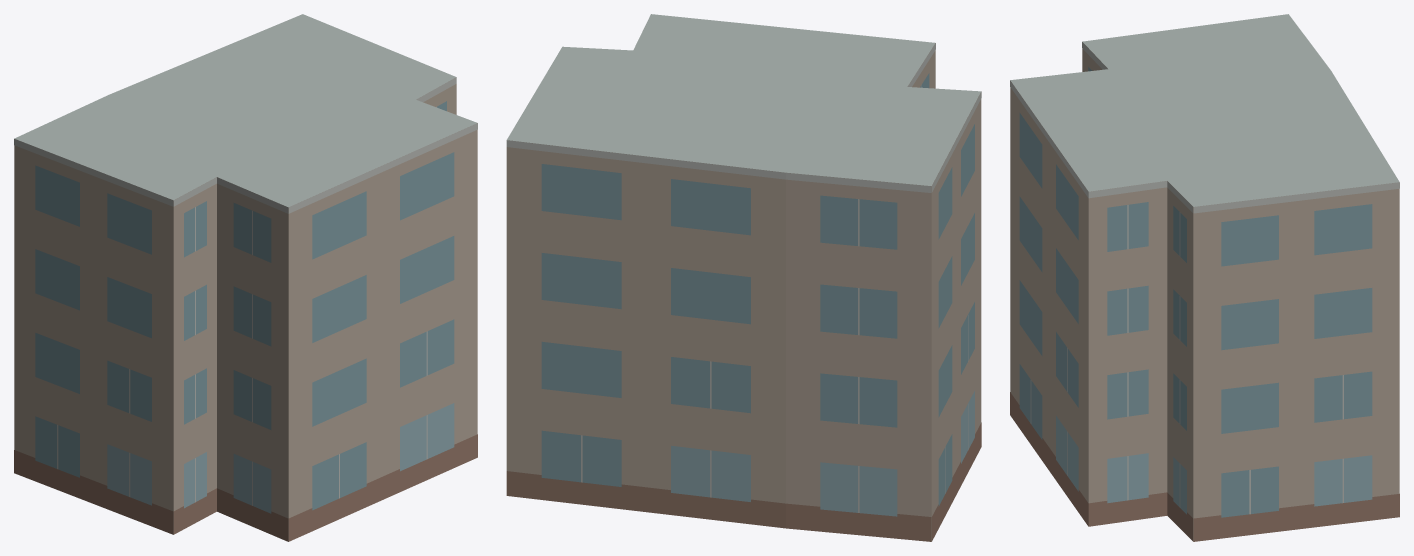
File: survey-upis-32976529.glb
3 renders of one model, left to right at view 1: azimuth 30°, elevation 25°; view 2: azimuth 150°, elevation 25°; view 3: azimuth 270°, elevation 25°, orthographic. The views are drawn at different scales.
Visible parts, largest first — view 1: survey-upis-32976529.tmp; view 2: survey-upis-32976529.tmp; view 3: survey-upis-32976529.tmp.
Boxes of the visible parts, x1,y1,x2,y2 form: survey-upis-32976529.tmp: (14, 14, 477, 541); survey-upis-32976529.tmp: (506, 14, 981, 541); survey-upis-32976529.tmp: (1010, 14, 1399, 541).
Bounding box in the file's own units: 15.39 × 12.45 × 13.14.
